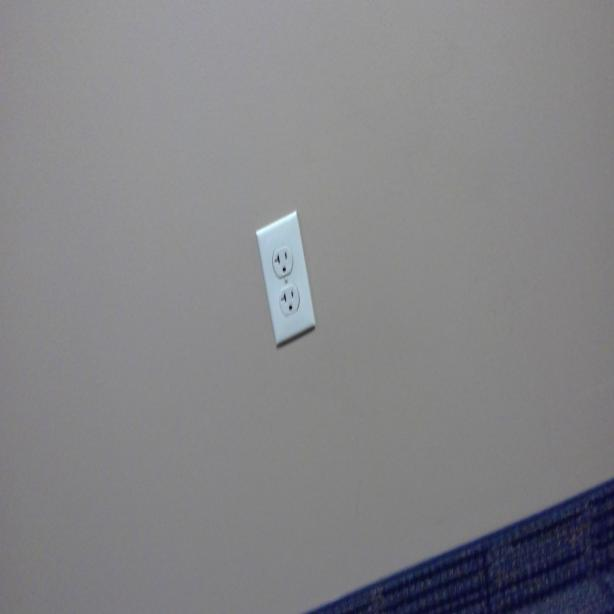typeb: (271, 244, 292, 274), (280, 289, 298, 317)
